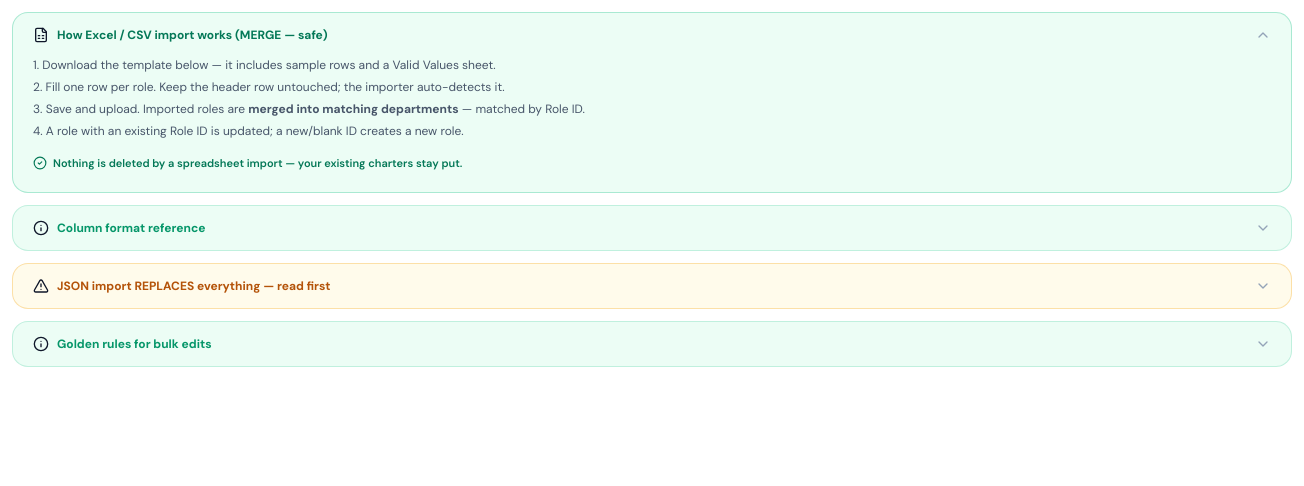
Test: ImportGuide › documents the golden rules
Click the button "Golden rules for bulk edits": point(134, 344) [13,322,1291,366]
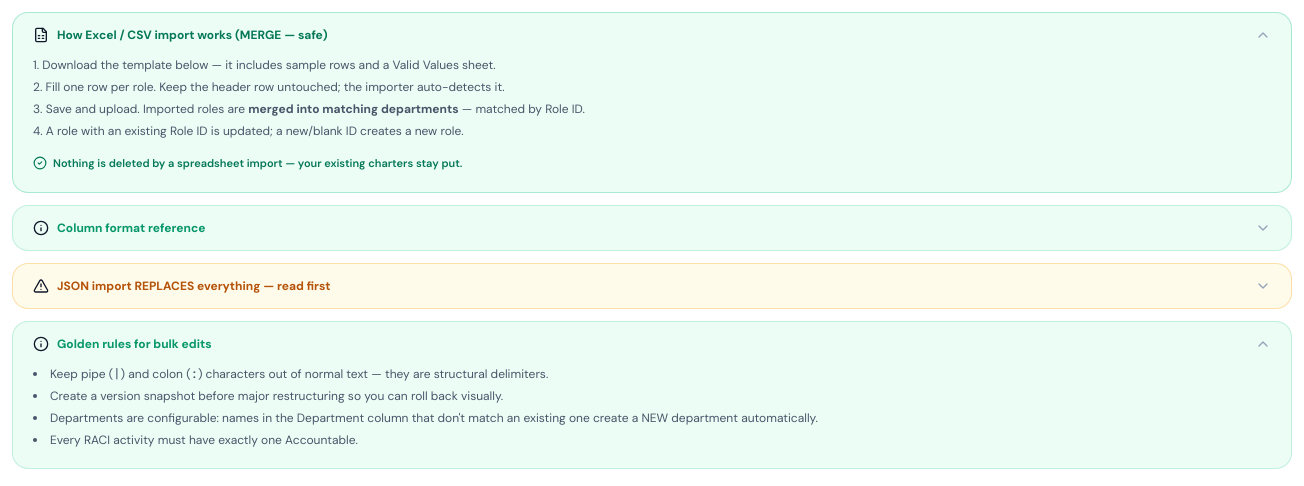
Result: the list item "Every RACI activity must have exactly one Accountable." is shown at [50,432,358,448]
